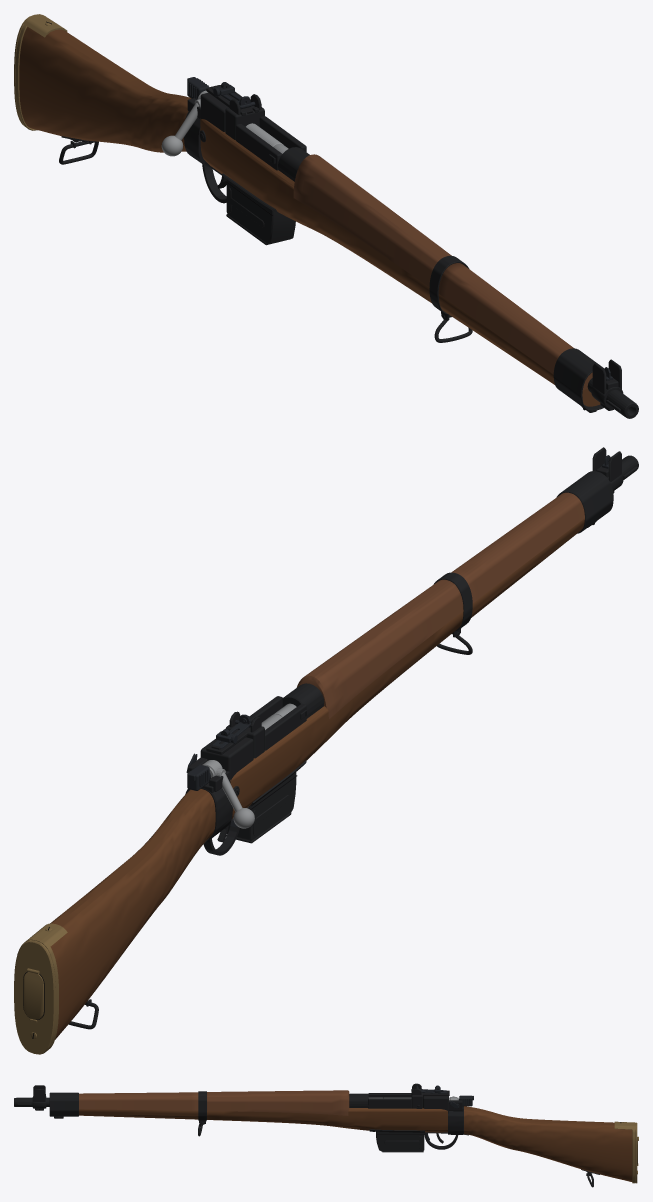
The model's file is uk-lee-enfield.glb.
3 renders of one model, top to bottom at view 1: azimuth 30°, elevation 25°; view 2: azimuth 150°, elevation 25°; view 3: azimuth 270°, elevation 25°, orthographic. The views are drawn at different scales.
Visible parts, largest first — view 1: no4-parts; view 2: no4-parts; view 3: no4-parts.
Part boxes in pixels (box(x1,y1,x2,y2)): no4-parts: box(14, 14, 638, 418); no4-parts: box(14, 447, 638, 1054); no4-parts: box(14, 1083, 638, 1187).
Size of the model in its own units: 0.0719 by 0.1966 by 1.14.
